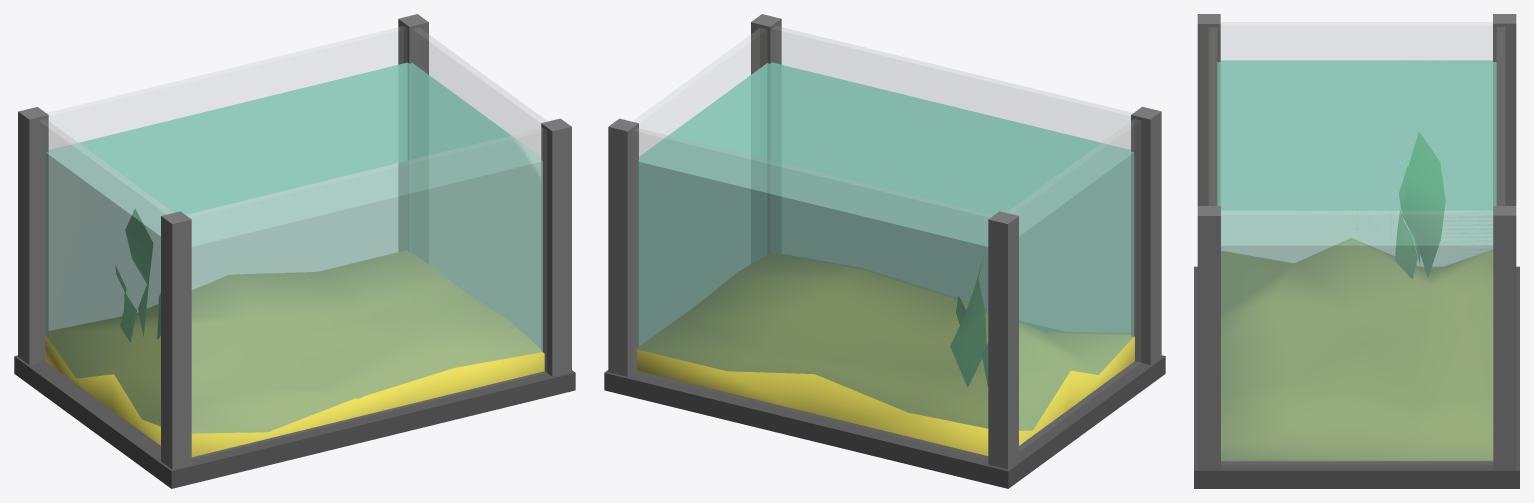
Rendered from aquarium.glb.
The picture shows the model from 3 angles, left to right: view 1: azimuth 30°, elevation 25°; view 2: azimuth 150°, elevation 25°; view 3: azimuth 270°, elevation 25°; orthographic projection. The views are drawn at different scales.
Visible parts, largest first — view 1: aquarium; view 2: aquarium; view 3: aquarium.
Part boxes in pixels (left/top/right/bottom): aquarium: left=14, top=14, right=575, bottom=488; aquarium: left=604, top=14, right=1165, bottom=488; aquarium: left=1194, top=14, right=1519, bottom=488.
Size of the model in its own units: 0.8121 by 0.5049 by 0.5479.
